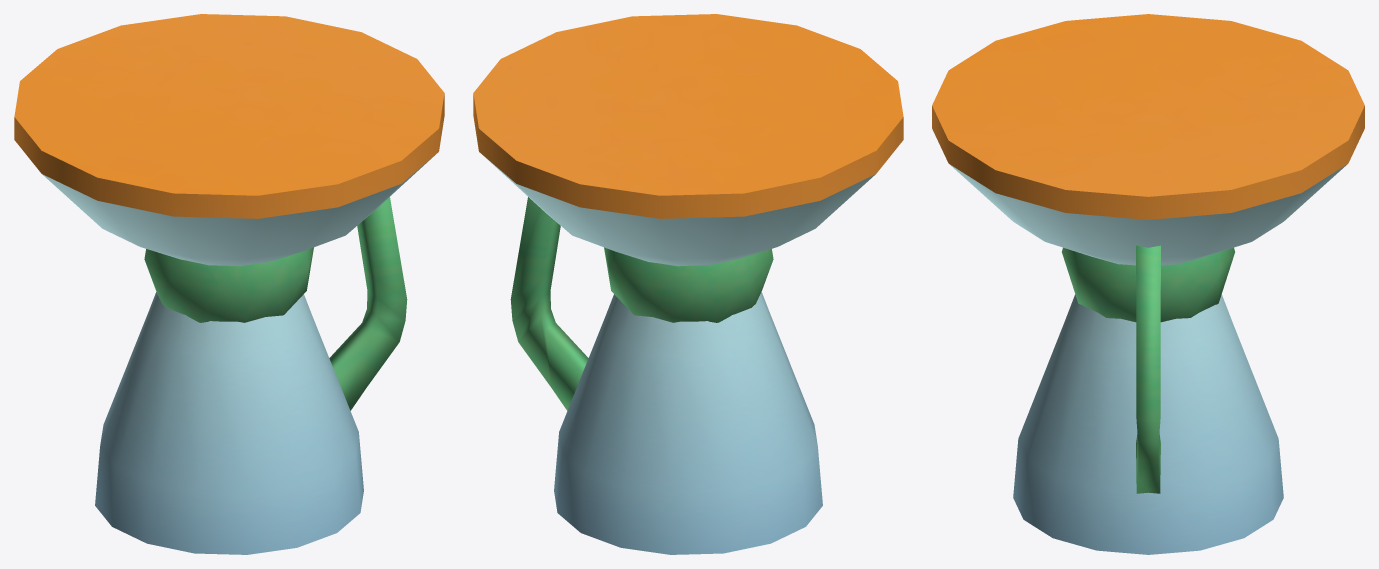
File: Engine.fbx
3 views of the same model, side by side, from view 1: azimuth 30°, elevation 25°; view 2: azimuth 150°, elevation 25°; view 3: azimuth 270°, elevation 25° (orthographic).
Parts seen in each view (by area): view 1: Enjine1; view 2: Enjine1; view 3: Enjine1.
Part boxes in pixels (<box>): Enjine1: <box>14,14,444,554</box>; Enjine1: <box>473,14,903,554</box>; Enjine1: <box>932,14,1364,554</box>.
Bounding box in the file's own units: 100 × 100 × 100.
